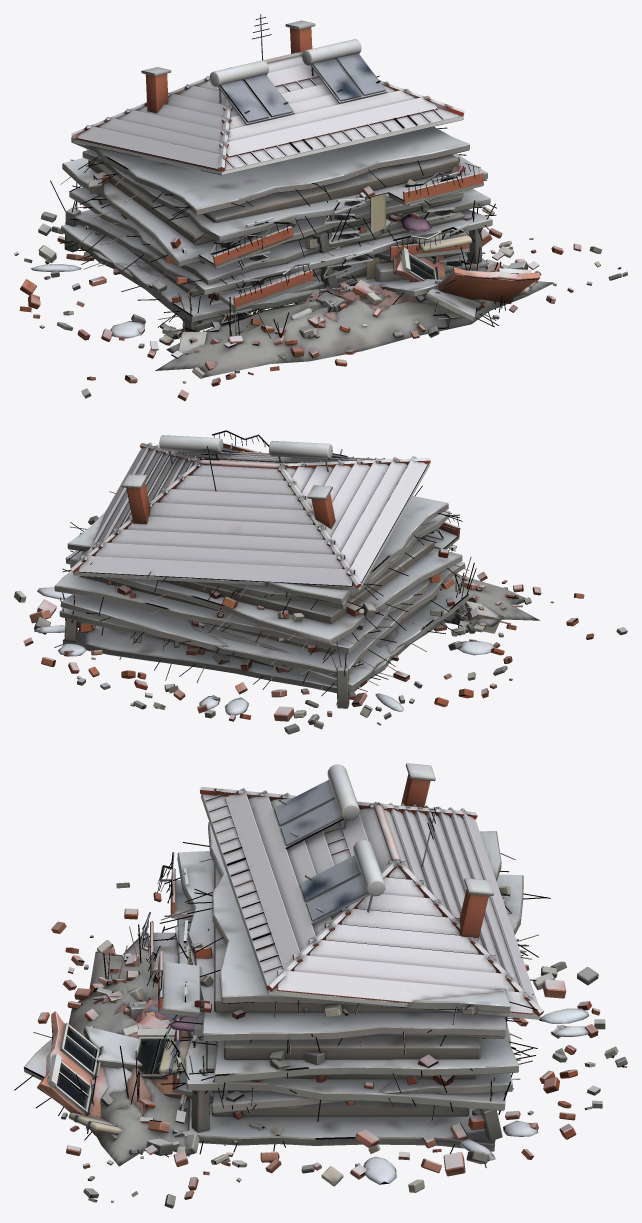
The model's file is bld_pancake_full.glb.
3 renders of one model, top to bottom at view 1: azimuth 30°, elevation 25°; view 2: azimuth 150°, elevation 25°; view 3: azimuth 270°, elevation 25°, orthographic. The views are drawn at different scales.
Parts seen in each view (by area): view 1: bld_pancake_full; view 2: bld_pancake_full; view 3: bld_pancake_full.
Part boxes in pixels (x1=…): bld_pancake_full: x1=14, y1=14, x2=627, y2=400; bld_pancake_full: x1=14, y1=430, x2=627, y2=734; bld_pancake_full: x1=14, y1=763, x2=627, y2=1208.
Size of the model in its own units: 21.69 by 8.85 by 17.53.
1 material, 1 textured.
